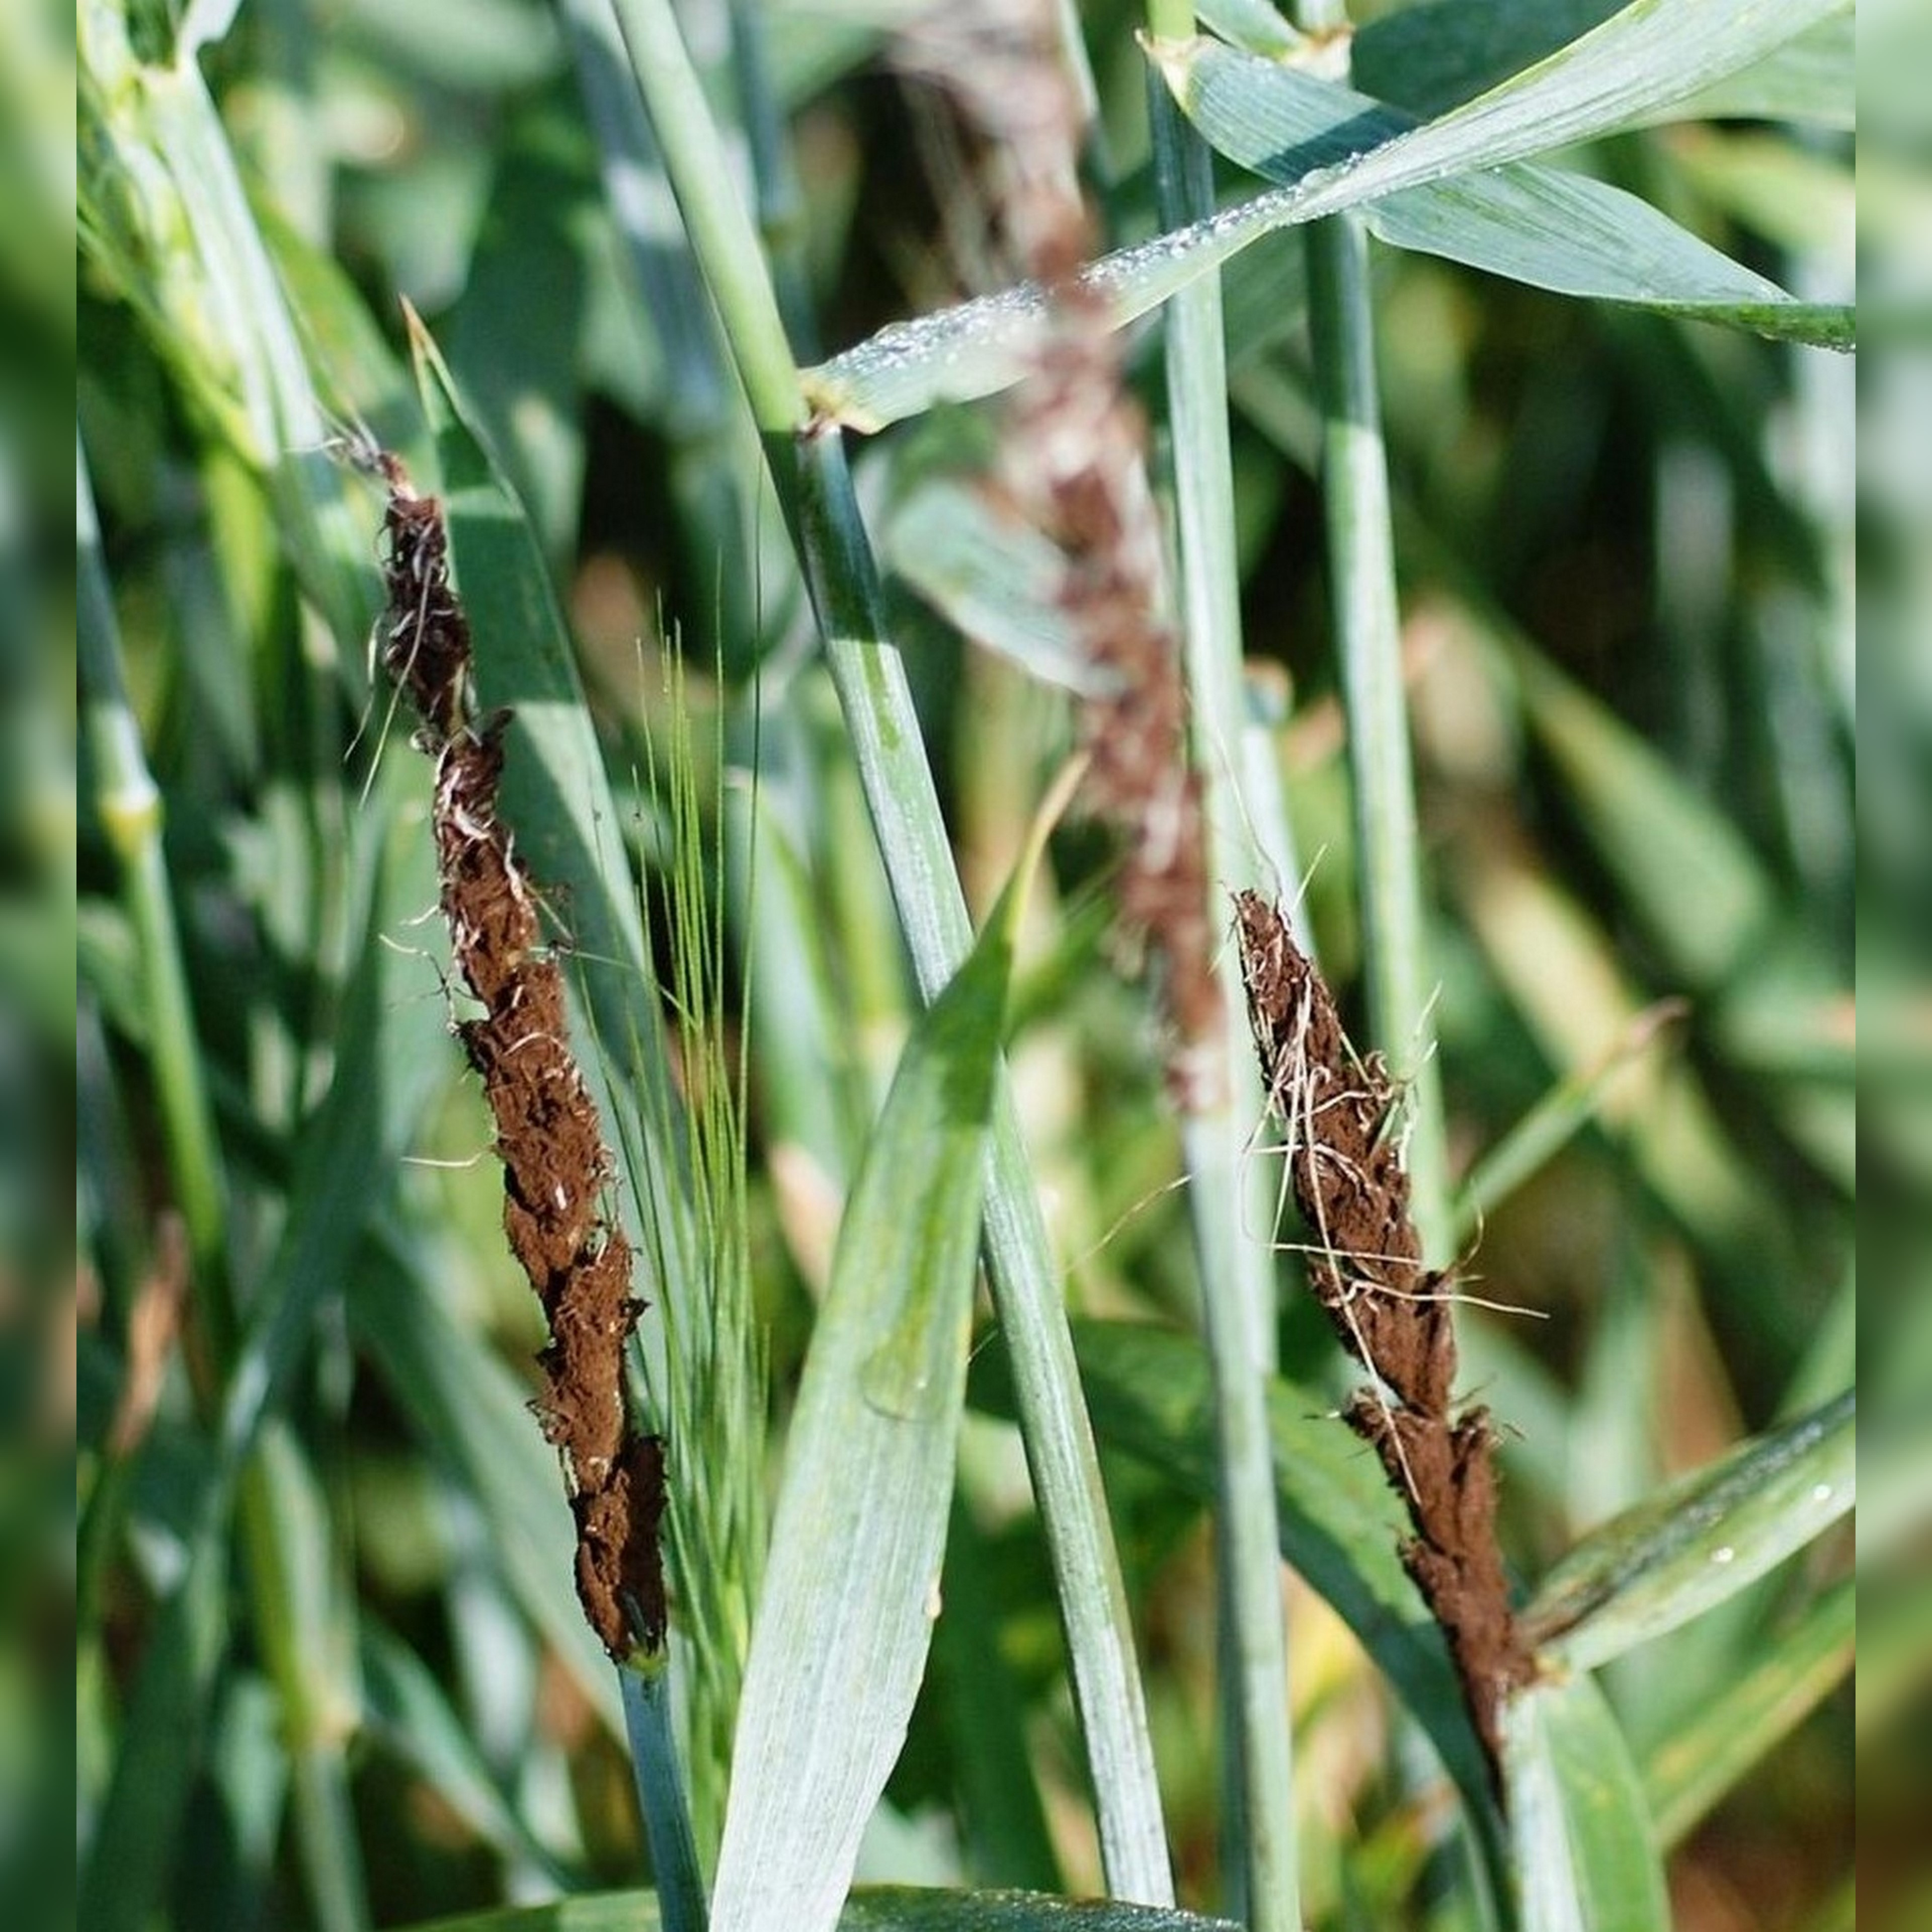Wheat Loose Smut: (324, 455, 699, 1576), (1185, 886, 1583, 1718)
